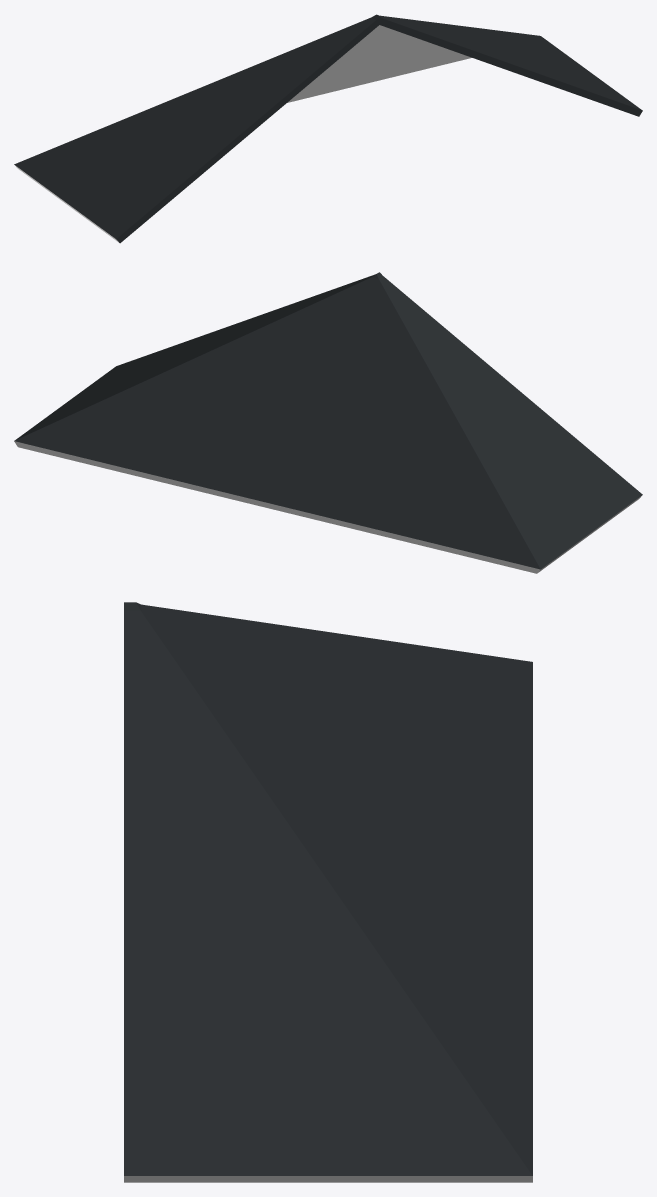
Rendered from Roof3_C1_02.fbx.
3 views of the same model, one above another, from view 1: azimuth 30°, elevation 25°; view 2: azimuth 150°, elevation 25°; view 3: azimuth 270°, elevation 25° (orthographic). The views are drawn at different scales.
Visible parts, largest first — view 1: Roof3_C1_02; view 2: Roof3_C1_02; view 3: Roof3_C1_02.
Part boxes in pixels (x1=…): Roof3_C1_02: x1=14, y1=14, x2=642, y2=243; Roof3_C1_02: x1=14, y1=272, x2=642, y2=573; Roof3_C1_02: x1=124, y1=602, x2=532, y2=1182.
Size of the model in its own units: 833 by 247 by 280.
